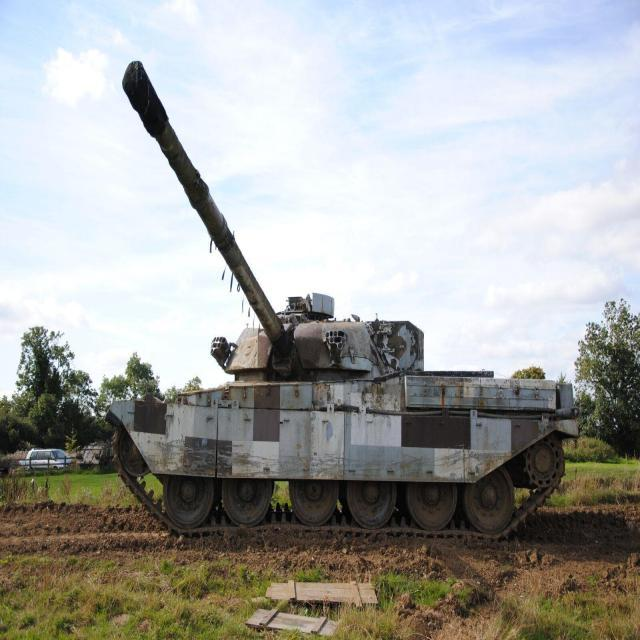MIL_MBT: (99, 298, 579, 541)
